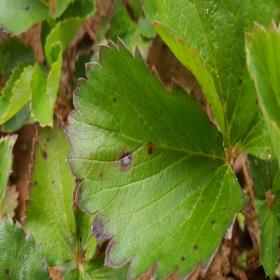Leaf Spot: (63, 35, 251, 279), (140, 0, 279, 150), (23, 109, 79, 266), (0, 213, 52, 279), (74, 204, 105, 262), (0, 133, 19, 208)
